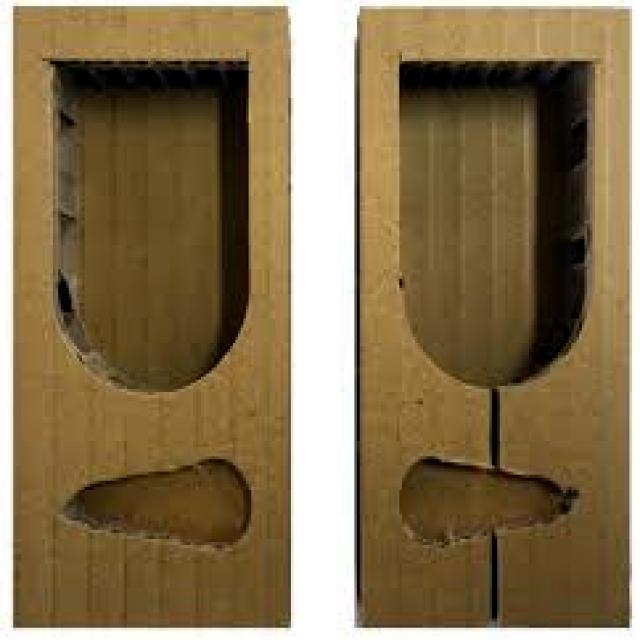Cardboard: (7, 2, 297, 634), (348, 1, 638, 630)
